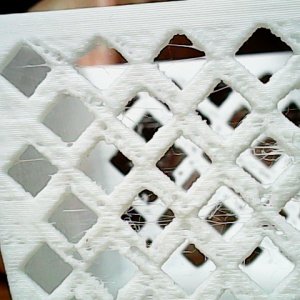3dpstringing: (123, 195, 174, 245), (200, 192, 251, 231), (148, 43, 211, 69), (243, 140, 290, 171), (110, 104, 167, 129), (62, 205, 93, 244), (84, 63, 131, 80), (13, 153, 56, 169), (19, 60, 55, 78), (178, 246, 209, 264), (203, 84, 232, 99), (93, 273, 117, 288)
3dpunderextrusion: (258, 194, 289, 240), (34, 40, 77, 71), (57, 242, 101, 267)
